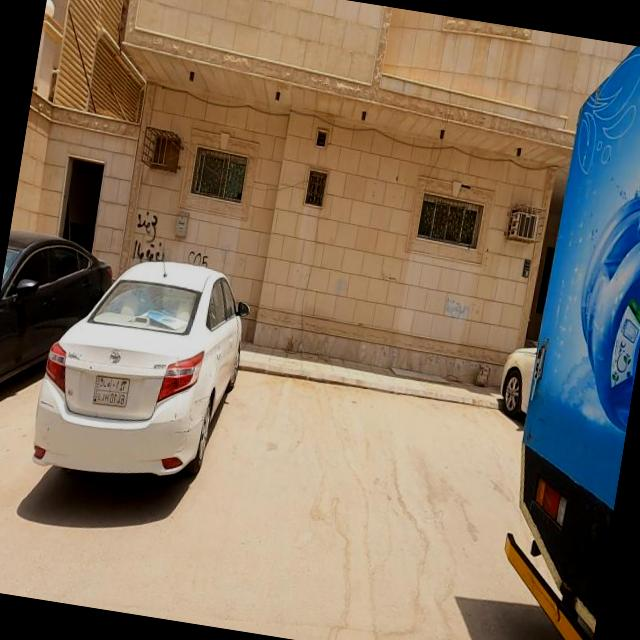debris: (96, 168, 201, 306)
